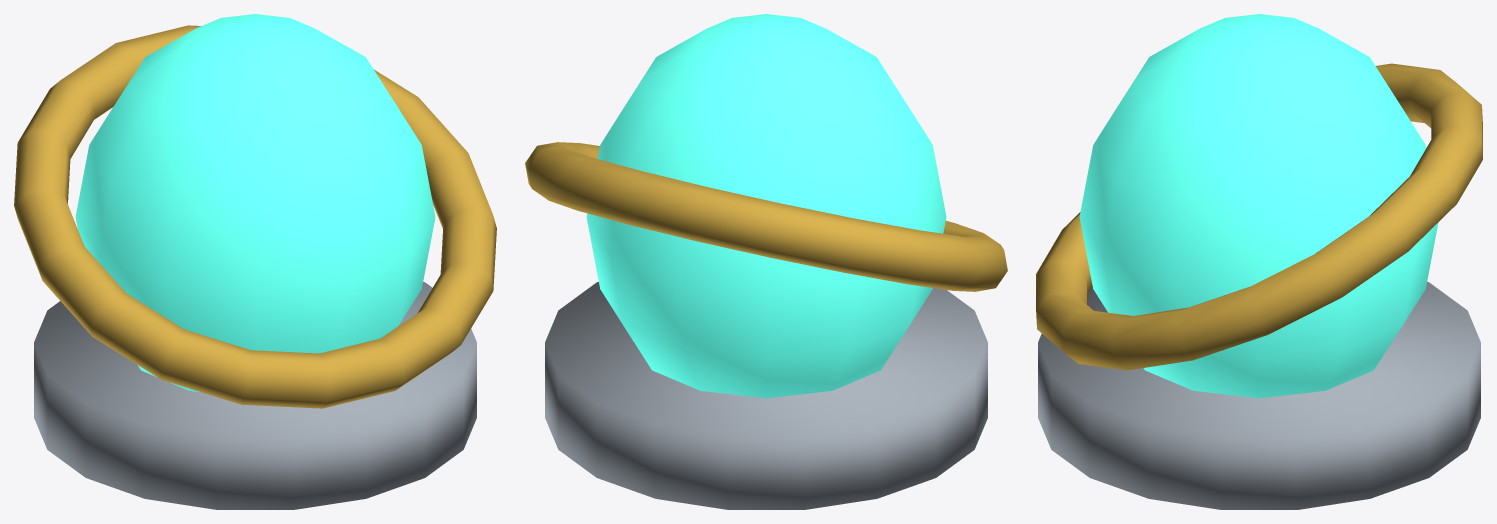
File: Collab_ArtifactToken.fbx
The picture shows the model from 3 angles, left to right: view 1: azimuth 30°, elevation 25°; view 2: azimuth 150°, elevation 25°; view 3: azimuth 270°, elevation 25°; orthographic projection.
Visible parts, largest first — view 1: Artifact_CoreGem, Artifact_BaseRing, Artifact_OrbitRing; view 2: Artifact_CoreGem, Artifact_BaseRing, Artifact_OrbitRing; view 3: Artifact_CoreGem, Artifact_BaseRing, Artifact_OrbitRing.
Boxes of the visible parts, box(x1,y1,x2,y2) form: Artifact_CoreGem: box(75, 14, 435, 391); Artifact_BaseRing: box(34, 282, 476, 509); Artifact_OrbitRing: box(14, 25, 496, 408); Artifact_CoreGem: box(586, 14, 946, 398); Artifact_BaseRing: box(545, 282, 987, 509); Artifact_OrbitRing: box(525, 142, 1007, 291); Artifact_CoreGem: box(1079, 14, 1438, 398); Artifact_BaseRing: box(1038, 282, 1480, 509); Artifact_OrbitRing: box(1036, 63, 1482, 370).
Bounding box in the file's own units: 3.6 × 3.1 × 3.23.
